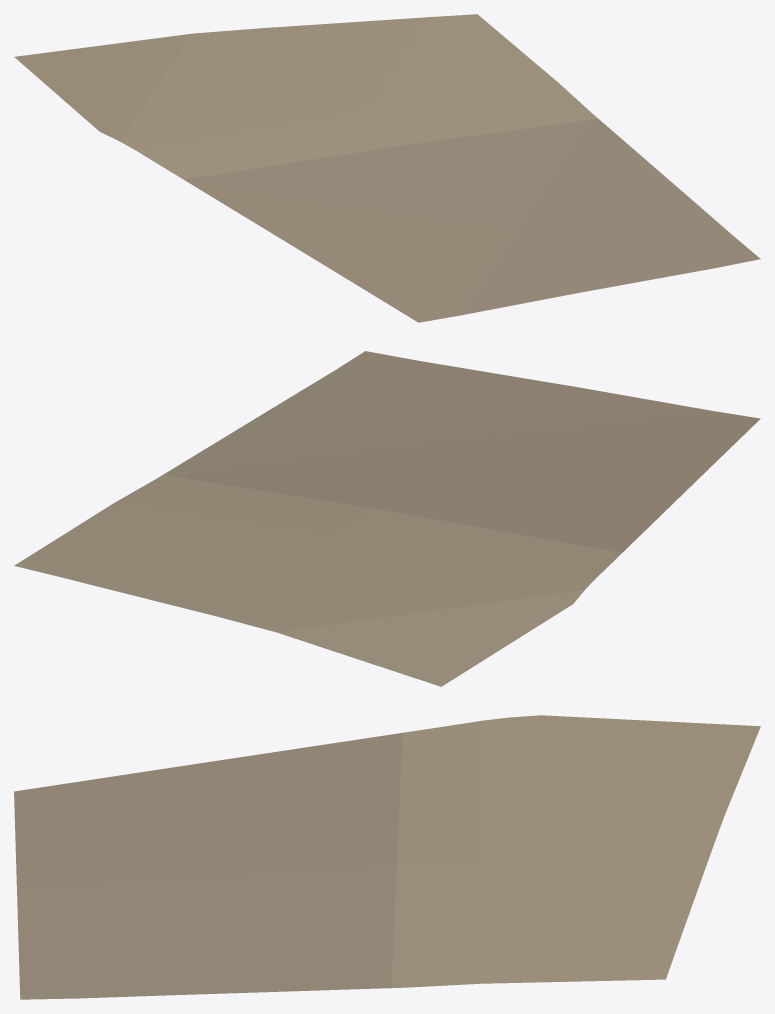
The model's file is farm_1_-3_soil.glb.
3 views of the same model, one above another, from view 1: azimuth 30°, elevation 25°; view 2: azimuth 150°, elevation 25°; view 3: azimuth 270°, elevation 25° (orthographic). The views are drawn at different scales.
Parts seen in each view (by area): view 1: geometry_0; view 2: geometry_0; view 3: geometry_0.
Part boxes in pixels (x1,y1,x2,y2): geometry_0: [14, 14, 760, 322]; geometry_0: [14, 351, 760, 686]; geometry_0: [14, 715, 760, 999].
Size of the model in its own units: 137 by 16.74 by 188.
